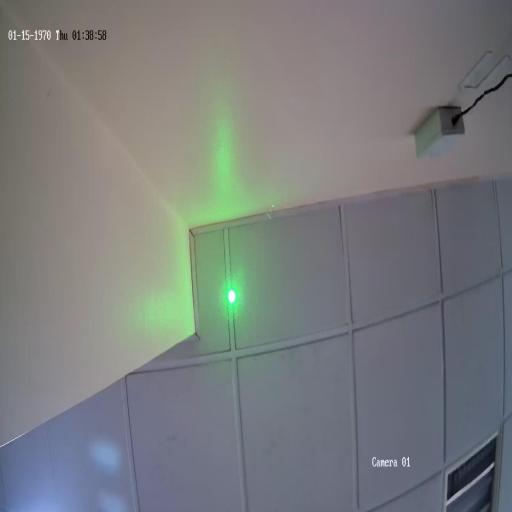laser: (220, 270, 244, 320)
